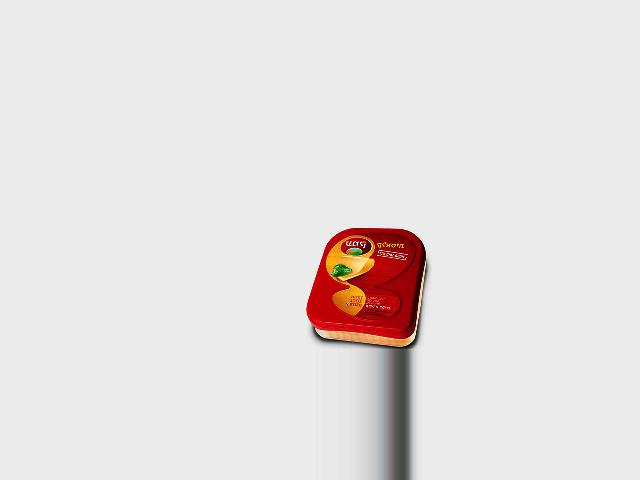cheese: (306, 227, 426, 347)
